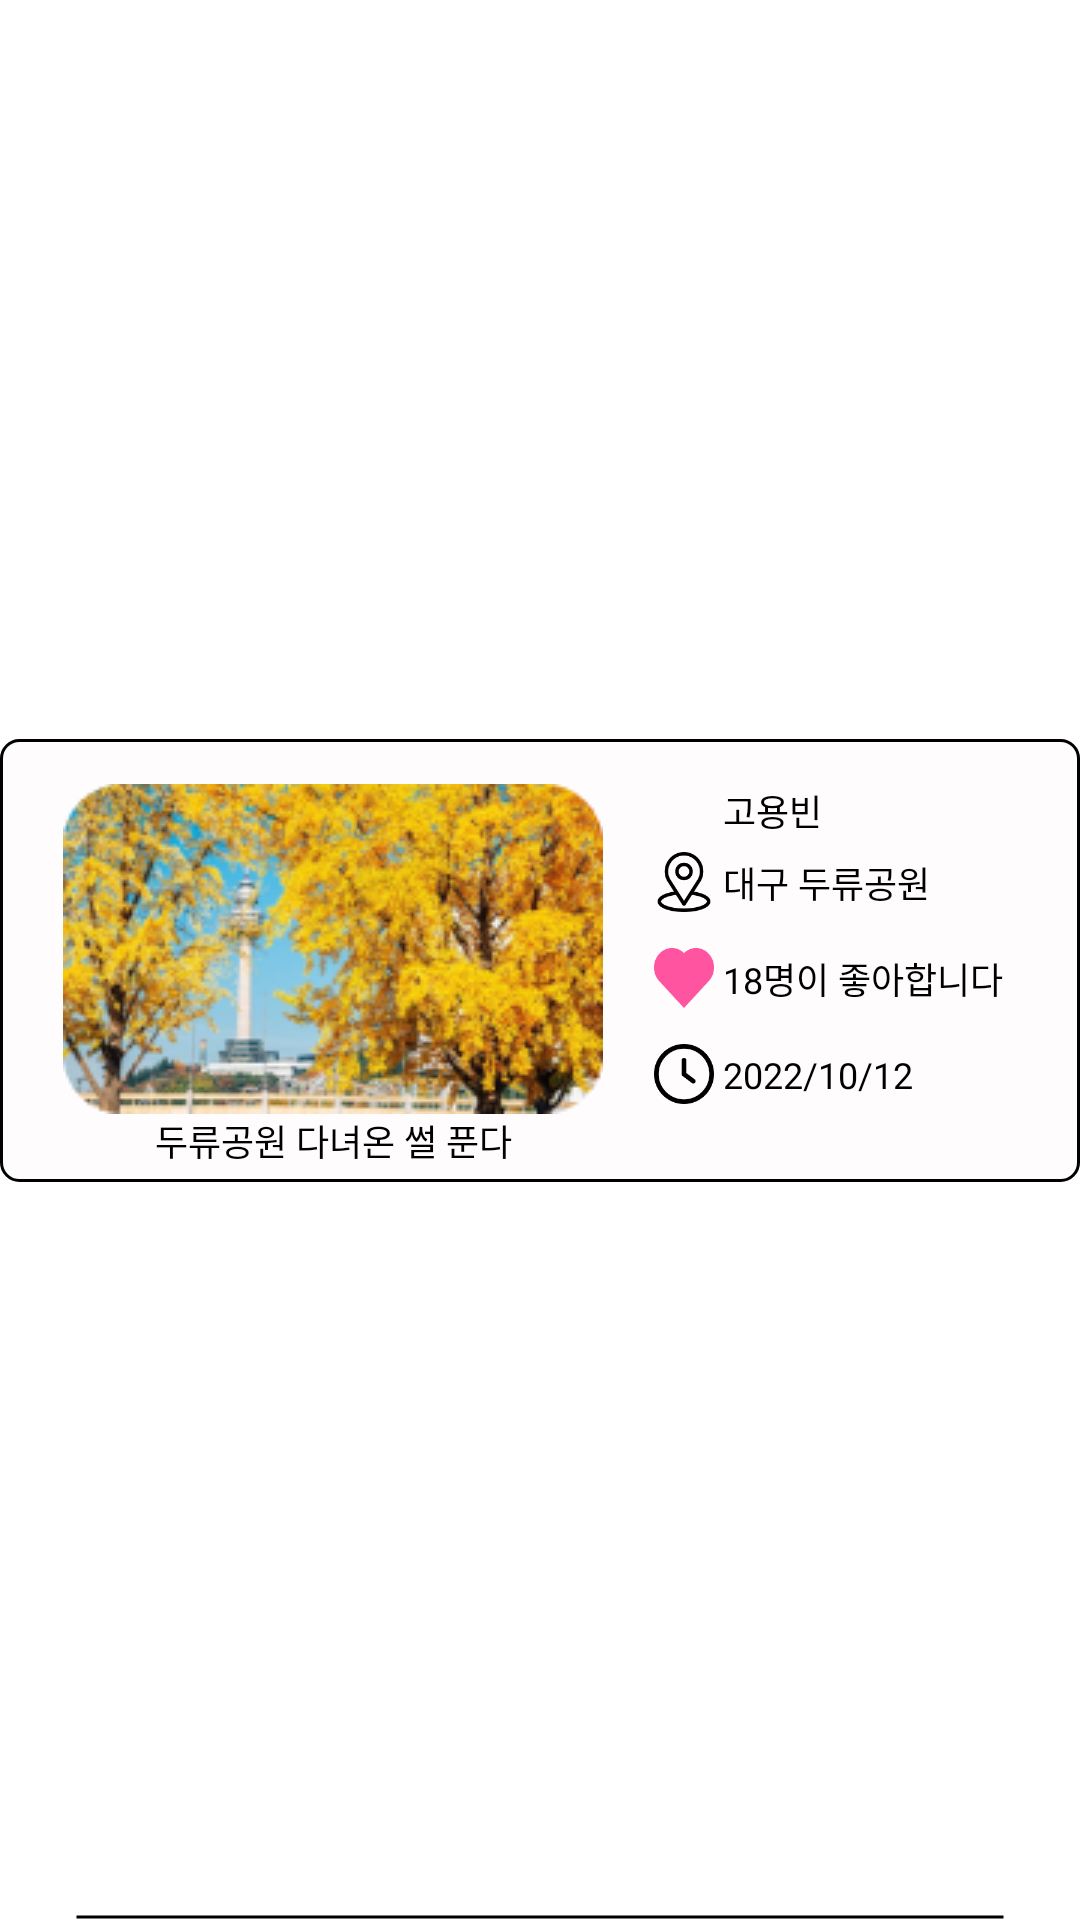

Named icons in this screenshot (1080 x 1920) and their centers, (x=x, y=y):
clock: (x=684, y=1074)
heart: (x=684, y=978)
location: (x=684, y=882)
